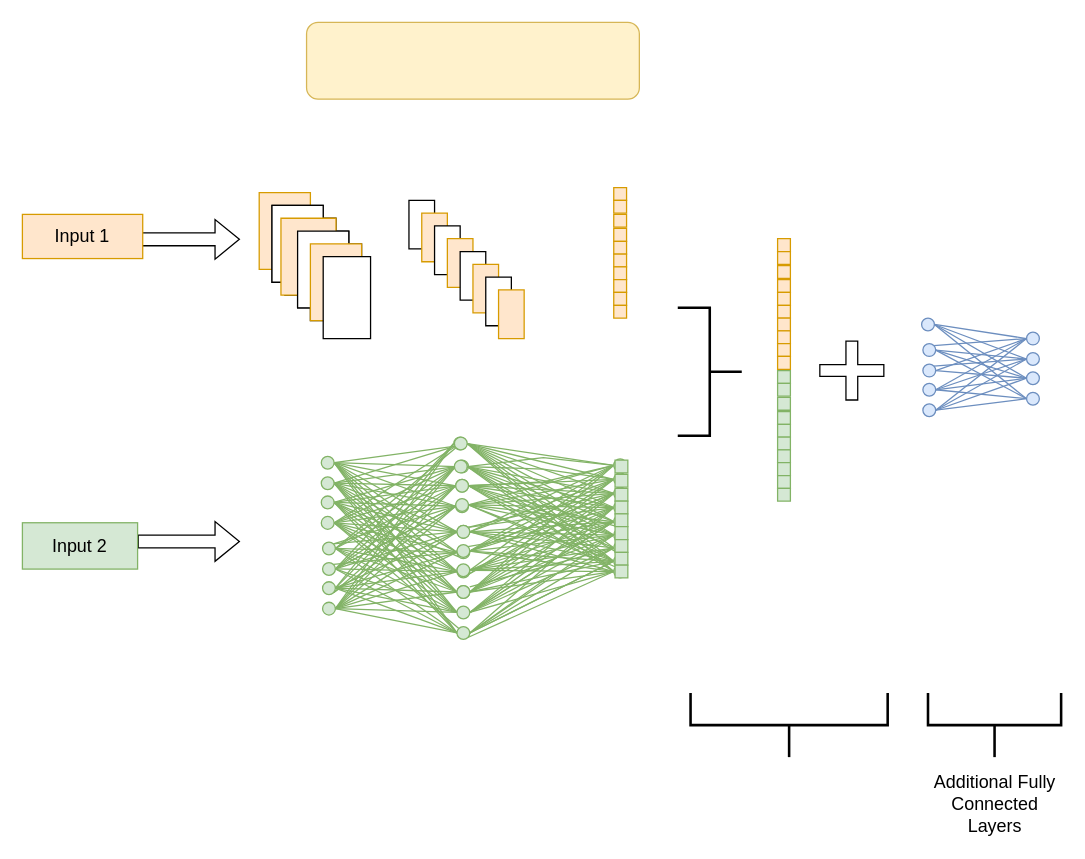
Image size: 1085x859. Some labels were removed from this diagram. Each missing label, with the box of its shape:
End-to-End: (305, 21, 639, 99)
Vector Concatenation: (689, 691, 888, 758)
